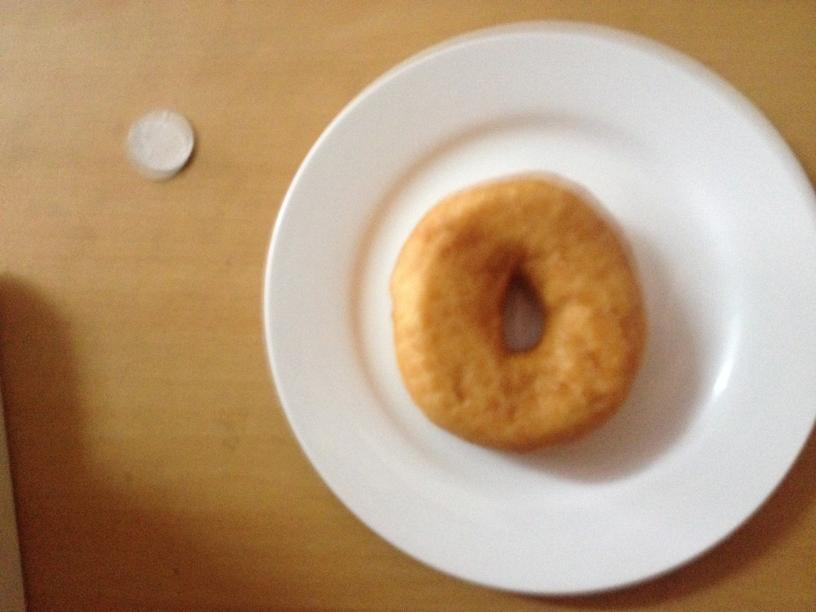coin: (387, 178, 644, 450)
doughnut: (387, 178, 644, 450)
